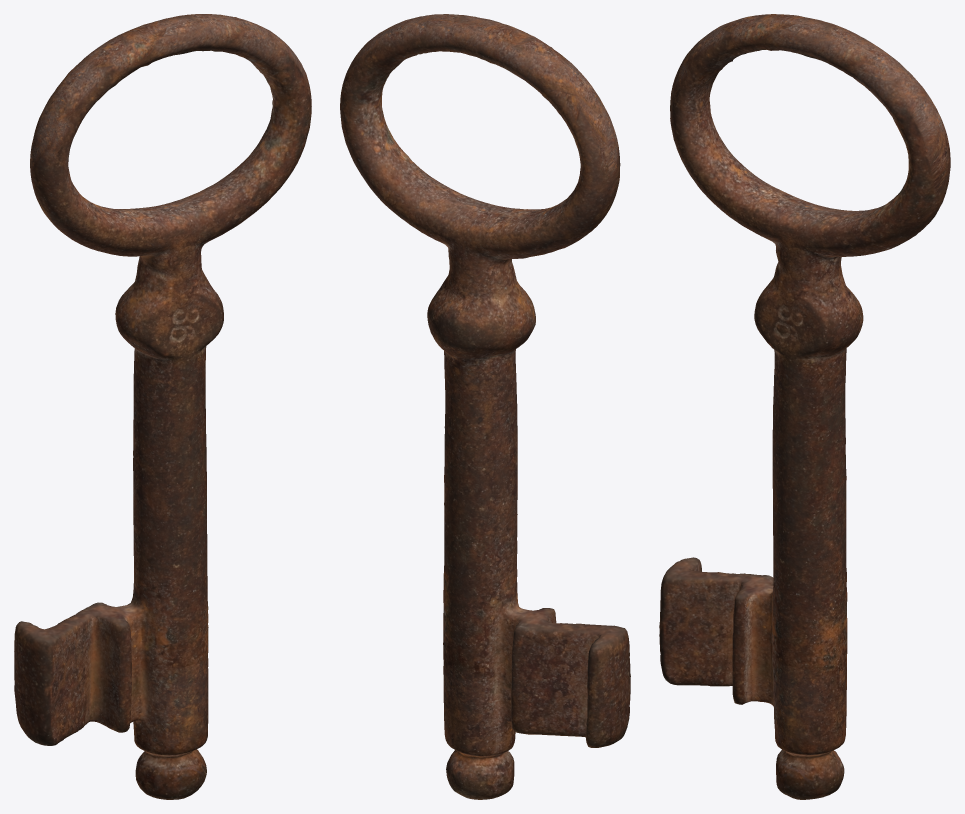
Rendered from old_rusty_key.glb.
3 views of the same model, side by side, from view 1: azimuth 30°, elevation 25°; view 2: azimuth 150°, elevation 25°; view 3: azimuth 330°, elevation 25° (orthographic).
Visible parts, largest first — view 1: k01_lo; view 2: k01_lo; view 3: k01_lo.
Part boxes in pixels (bbox=[...]): k01_lo: bbox=[14, 14, 311, 799]; k01_lo: bbox=[340, 14, 630, 799]; k01_lo: bbox=[659, 14, 950, 799].
Size of the model in its own units: 14.6 by 38.39 by 4.03.
Materials: 1 (1 with a texture image).
